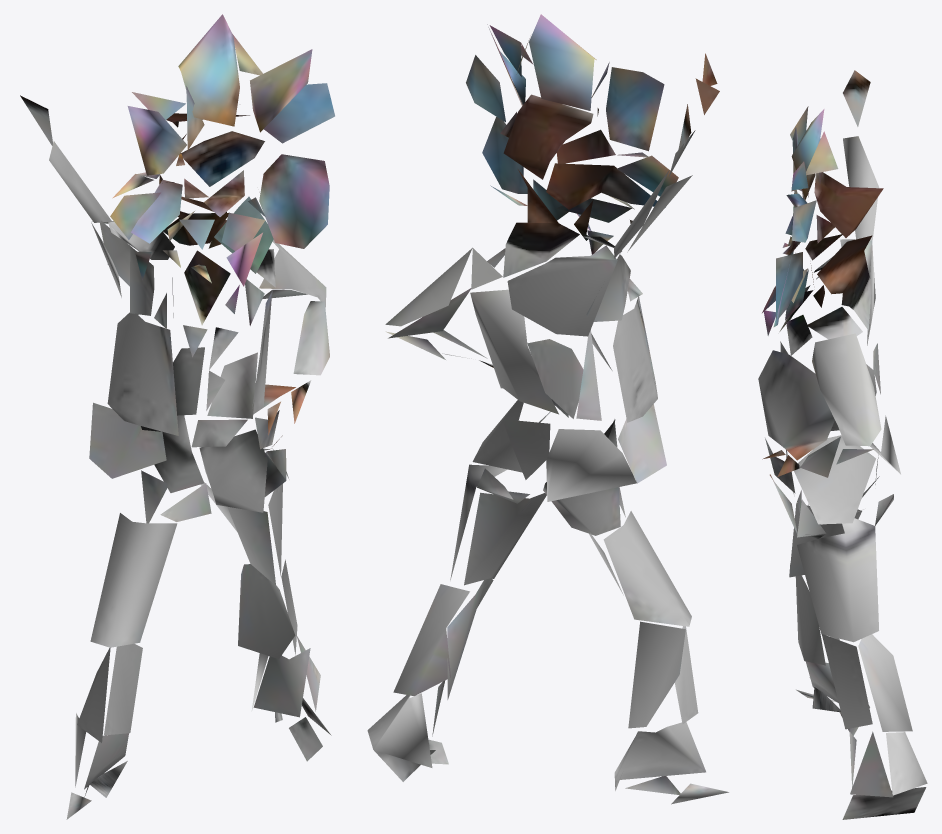
The model's file is crowd_discoking_lite.glb.
3 views of the same model, side by side, from view 1: azimuth 30°, elevation 25°; view 2: azimuth 150°, elevation 25°; view 3: azimuth 270°, elevation 25° (orthographic). The views are drawn at different scales.
Visible parts, largest first — view 1: tripo_node_b34096fa-347c-4600-b127-7b8cc124b146; view 2: tripo_node_b34096fa-347c-4600-b127-7b8cc124b146; view 3: tripo_node_b34096fa-347c-4600-b127-7b8cc124b146.
Boxes of the visible parts, x1,y1,x2,y2 form: tripo_node_b34096fa-347c-4600-b127-7b8cc124b146: (20, 14, 334, 819); tripo_node_b34096fa-347c-4600-b127-7b8cc124b146: (367, 14, 728, 804); tripo_node_b34096fa-347c-4600-b127-7b8cc124b146: (758, 70, 927, 819).
Bounding box in the file's own units: 0.8269 × 1.85 × 0.4117.
Materials: 1 (1 with a texture image).
